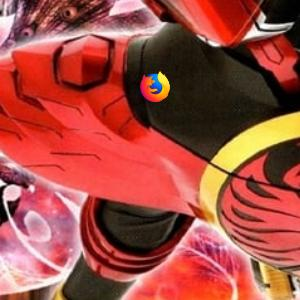firefox: (139, 70, 171, 103)
